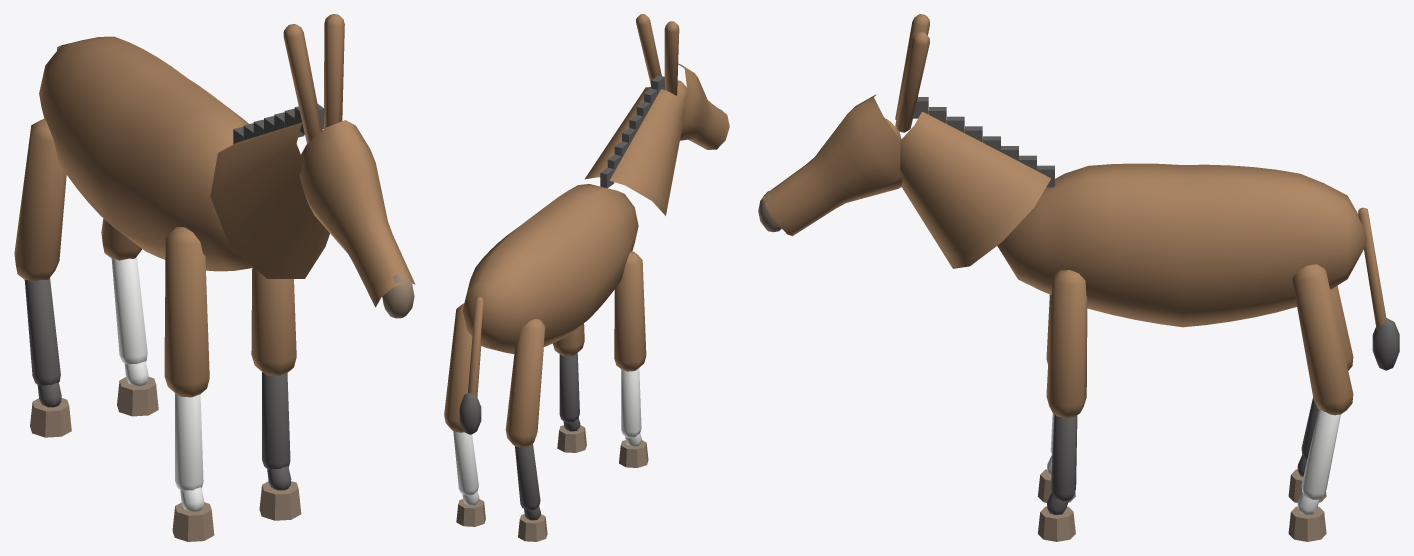
Rendered from donkey-standing.glb.
3 views of the same model, side by side, from view 1: azimuth 30°, elevation 25°; view 2: azimuth 150°, elevation 25°; view 3: azimuth 270°, elevation 25° (orthographic). The views are drawn at different scales.
Parts seen in each view (by area): view 1: donkey-standing; view 2: donkey-standing; view 3: donkey-standing.
Boxes of the visible parts, bbox=[...] form: donkey-standing: bbox=[14, 14, 415, 541]; donkey-standing: bbox=[444, 14, 729, 541]; donkey-standing: bbox=[758, 14, 1399, 541].
Size of the model in its own units: 0.3992 by 1.67 by 1.98.
